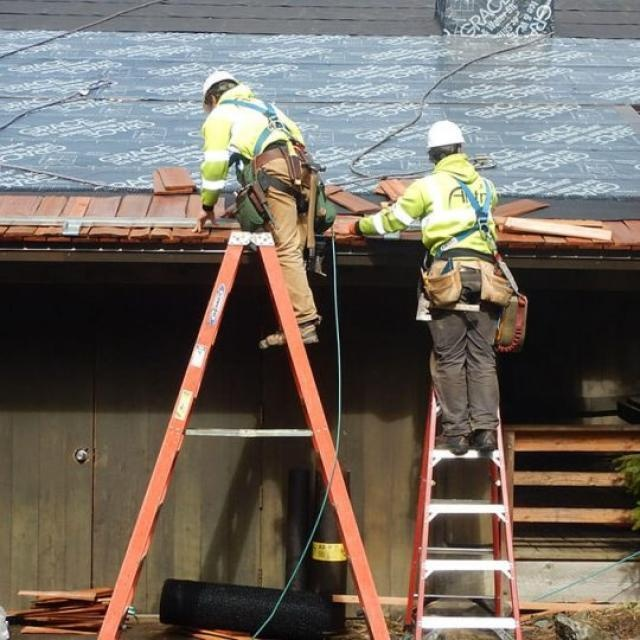Arnes_seguridad: (422, 164, 494, 260), (213, 91, 302, 161)
